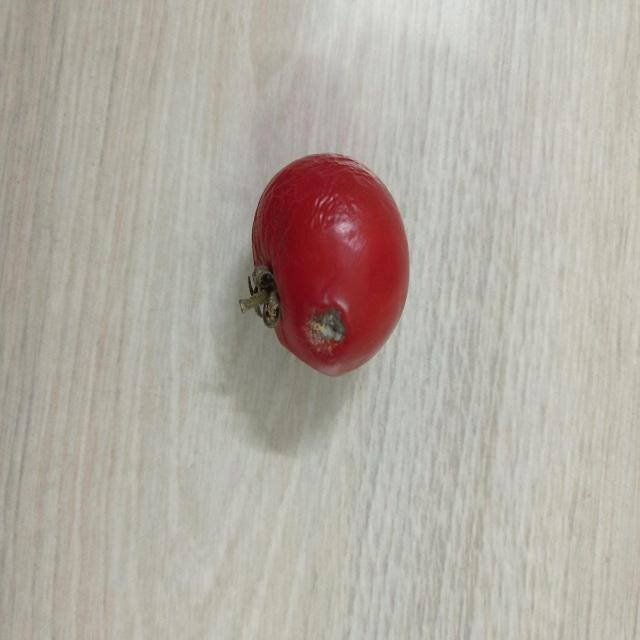Rotten: (252, 150, 410, 378)
